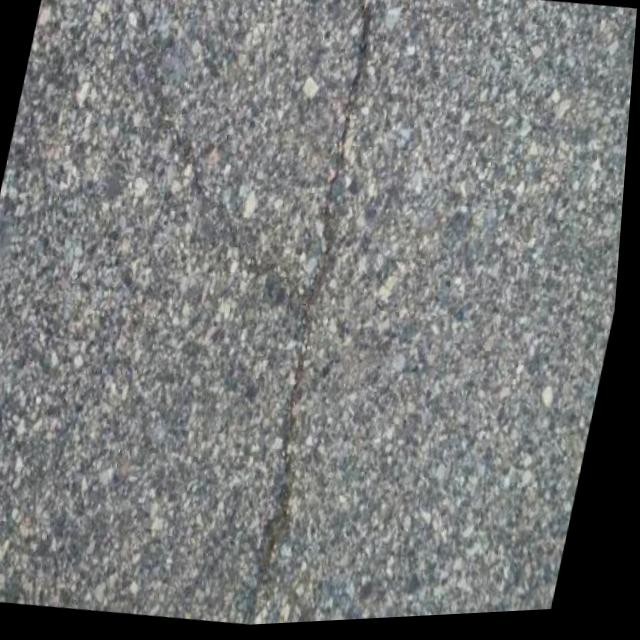Crack: (223, 0, 408, 629)
